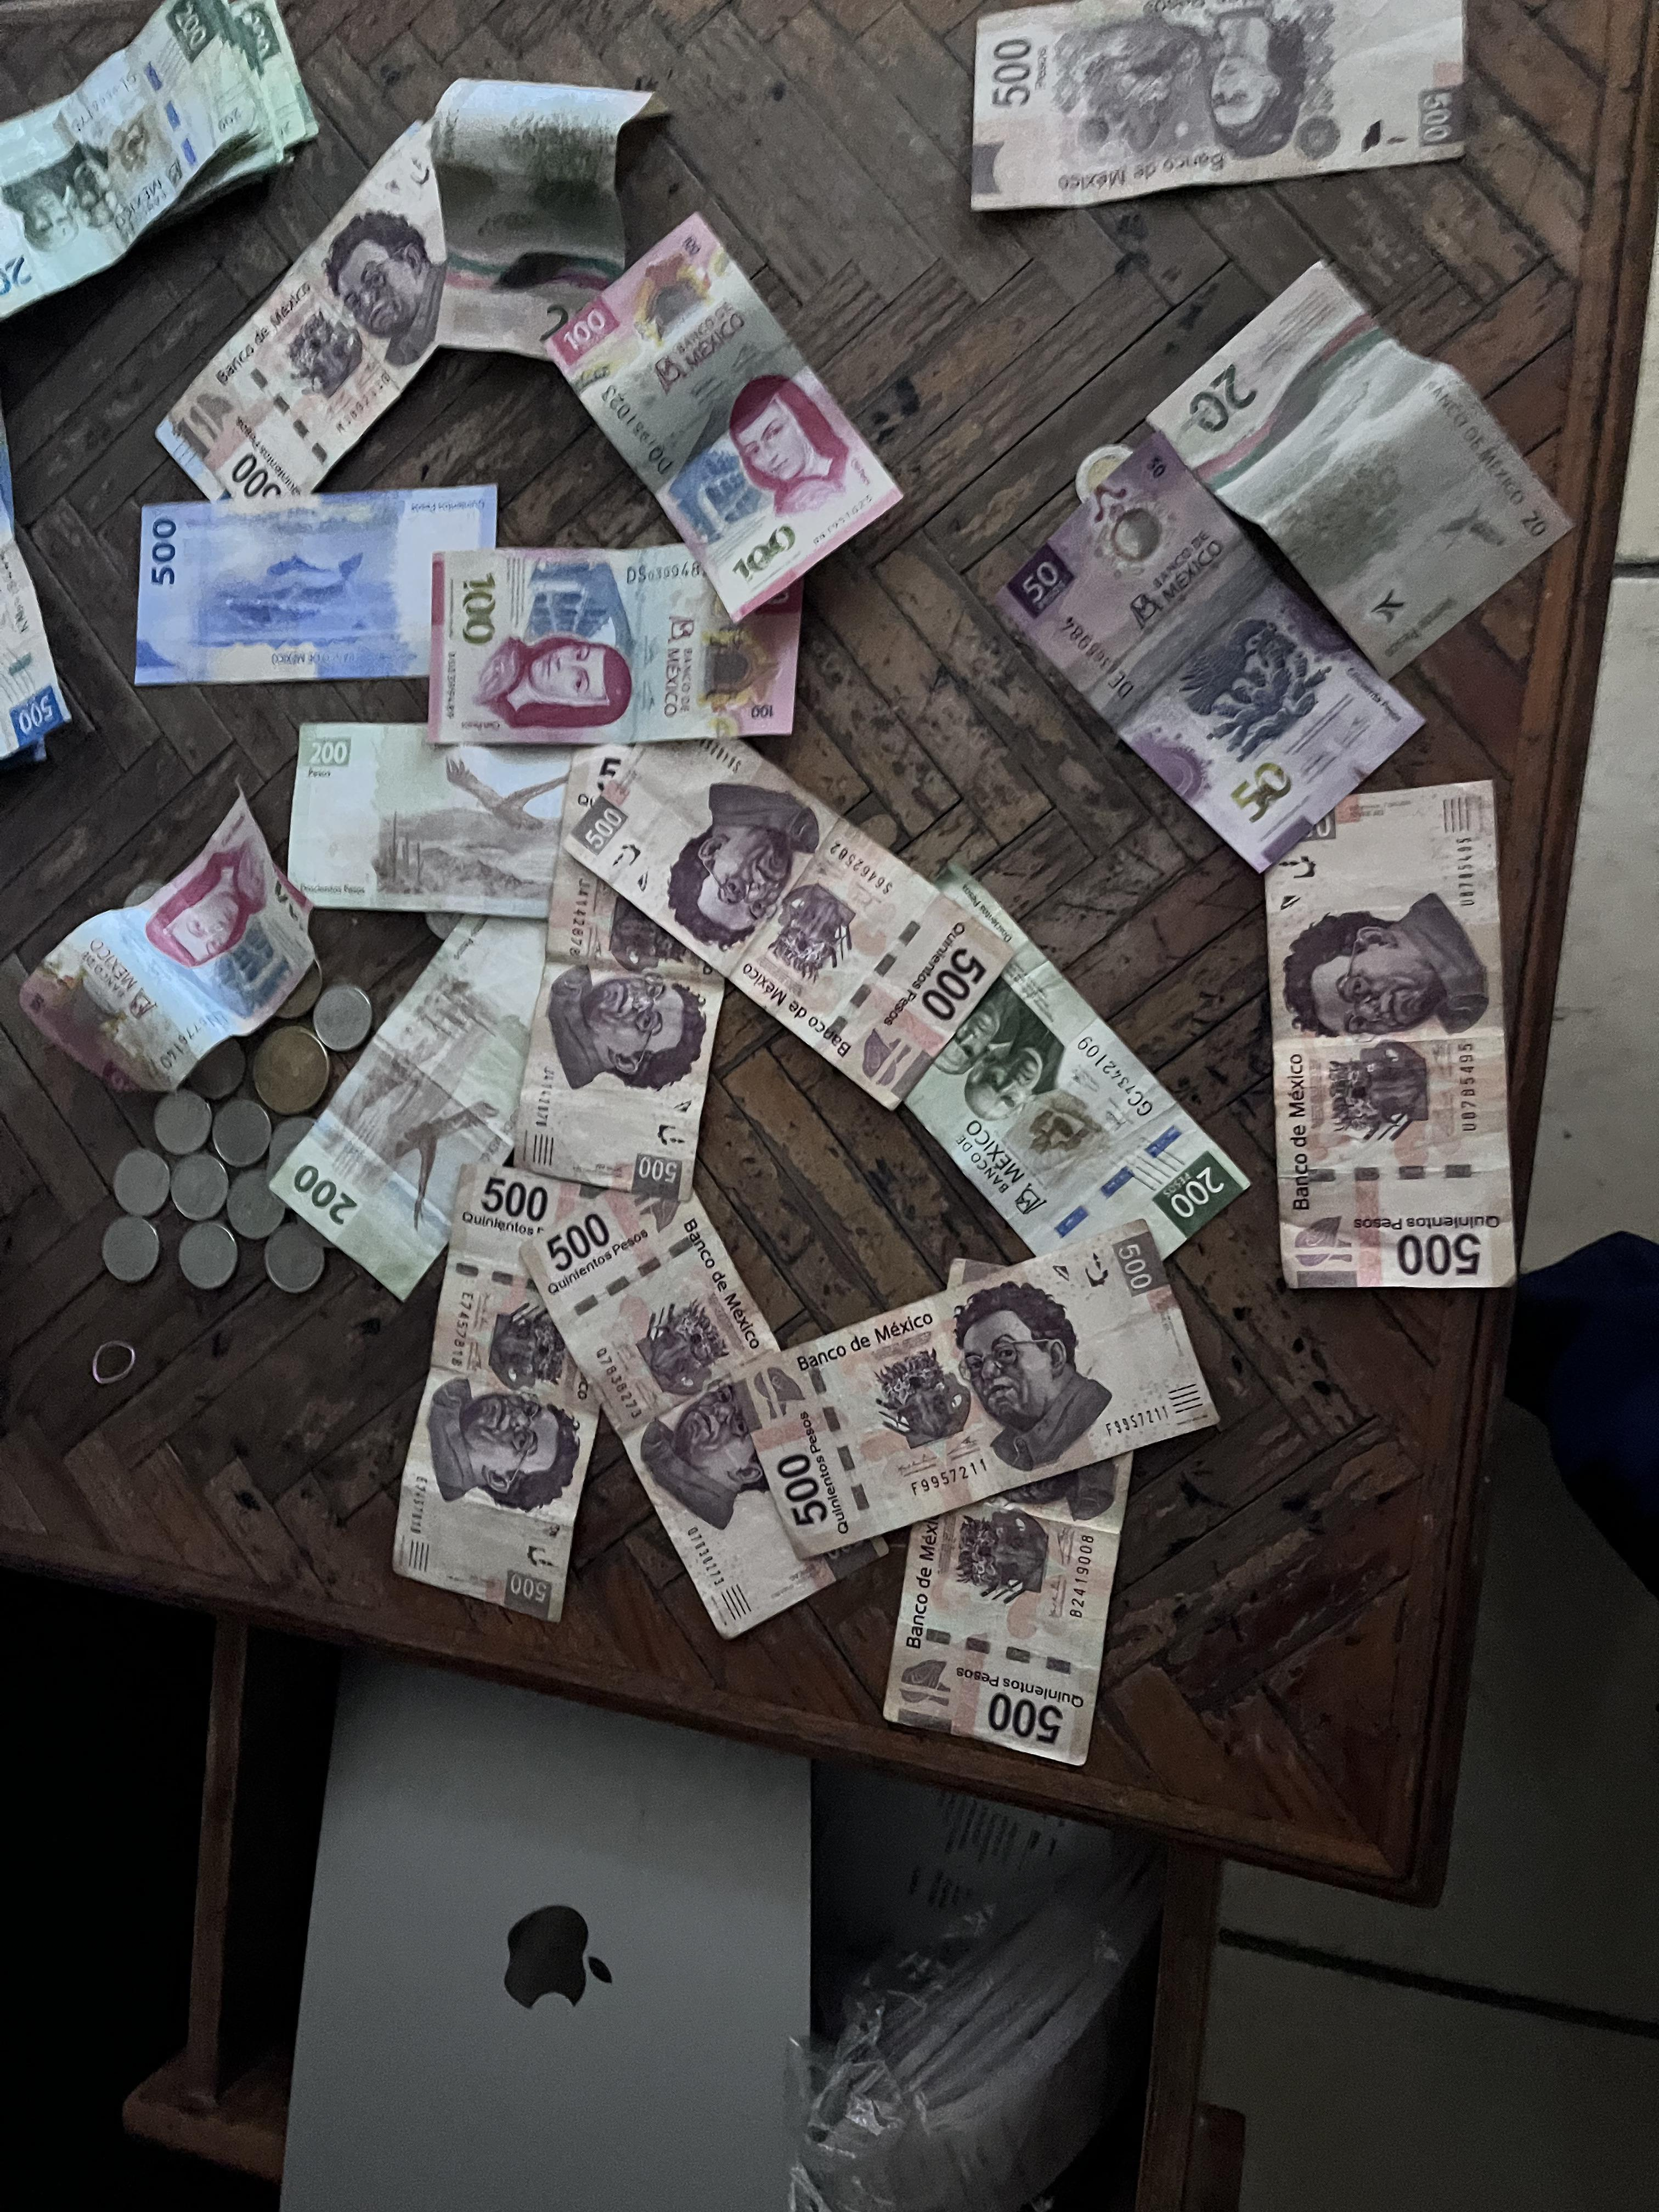100: (538, 246, 936, 624), (415, 535, 842, 740), (23, 836, 324, 1092)
20: (1138, 258, 1586, 685), (415, 52, 659, 374)
200: (840, 859, 1281, 1318), (856, 836, 1246, 1298), (258, 916, 605, 1313), (0, 0, 321, 266), (268, 705, 629, 916)
50: (976, 435, 1431, 864)
500: (694, 1216, 1232, 1568), (120, 99, 566, 503), (584, 697, 1009, 1116), (1234, 765, 1534, 1324), (516, 1177, 875, 1635), (345, 1167, 680, 1622), (488, 691, 760, 1204), (946, 0, 1509, 223), (877, 1336, 1138, 1794)
500 nuevo: (119, 481, 512, 712), (0, 399, 96, 759)
